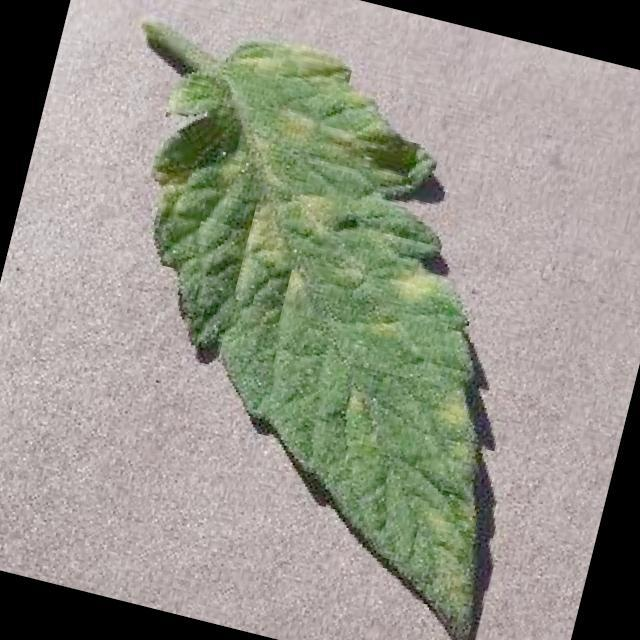Tomato mold leaf: (58, 19, 598, 640)
